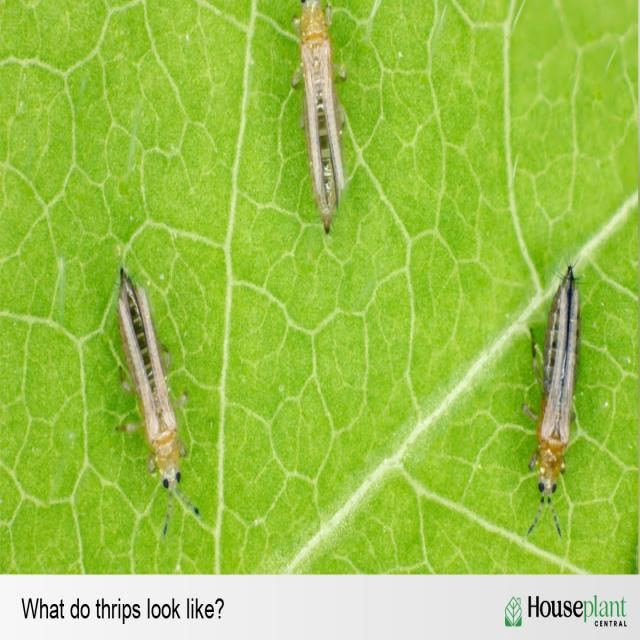Thrip-Adult-: (94, 252, 200, 536), (521, 235, 590, 547)
